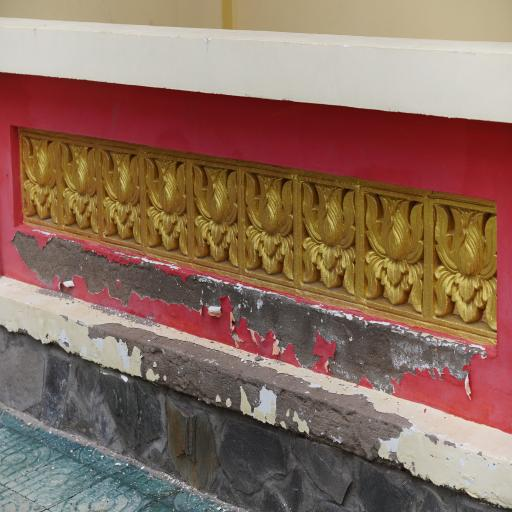hoa: (422, 195, 500, 339), (292, 173, 360, 305), (360, 190, 422, 321), (187, 161, 244, 278), (246, 168, 292, 288), (139, 154, 187, 258), (54, 138, 102, 238), (92, 144, 143, 238), (21, 136, 60, 230)
